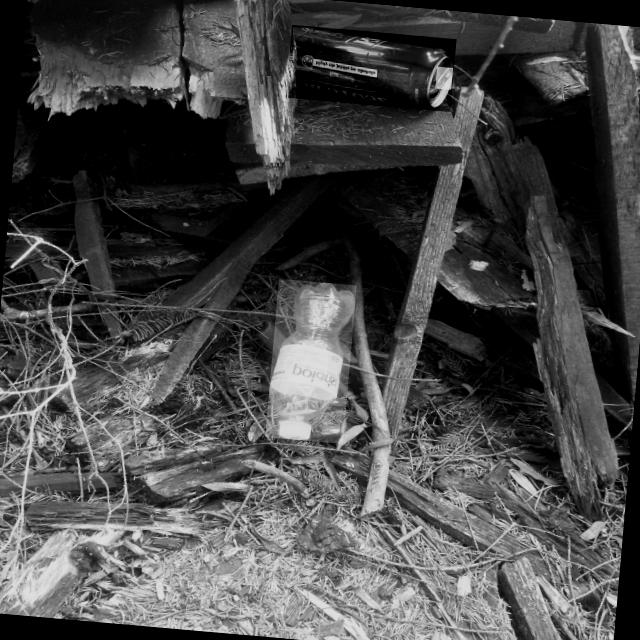Bottle cap: (278, 424, 309, 440)
Clear plastic bottle: (269, 282, 354, 440)
Drink can: (292, 25, 453, 109)
Pop tab: (435, 67, 452, 88)
